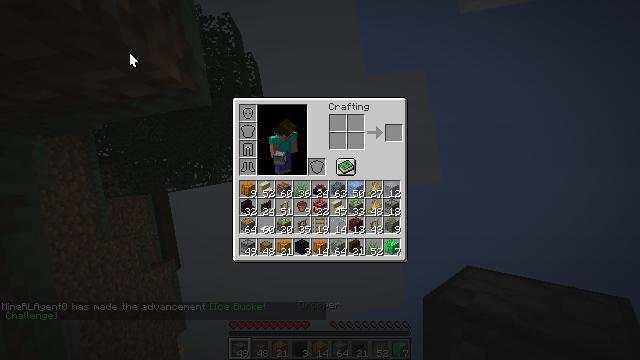cursor: (129, 52, 139, 68)
